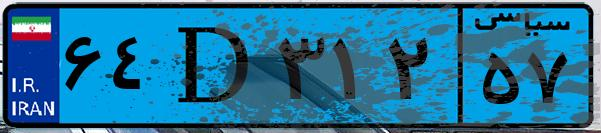1: (330, 28, 385, 110)
2: (385, 28, 445, 110)
3: (270, 28, 330, 110)
4: (110, 28, 158, 98)
5: (475, 38, 525, 113)
6: (57, 26, 110, 100)
7: (525, 38, 570, 115)
D: (158, 12, 270, 120)
